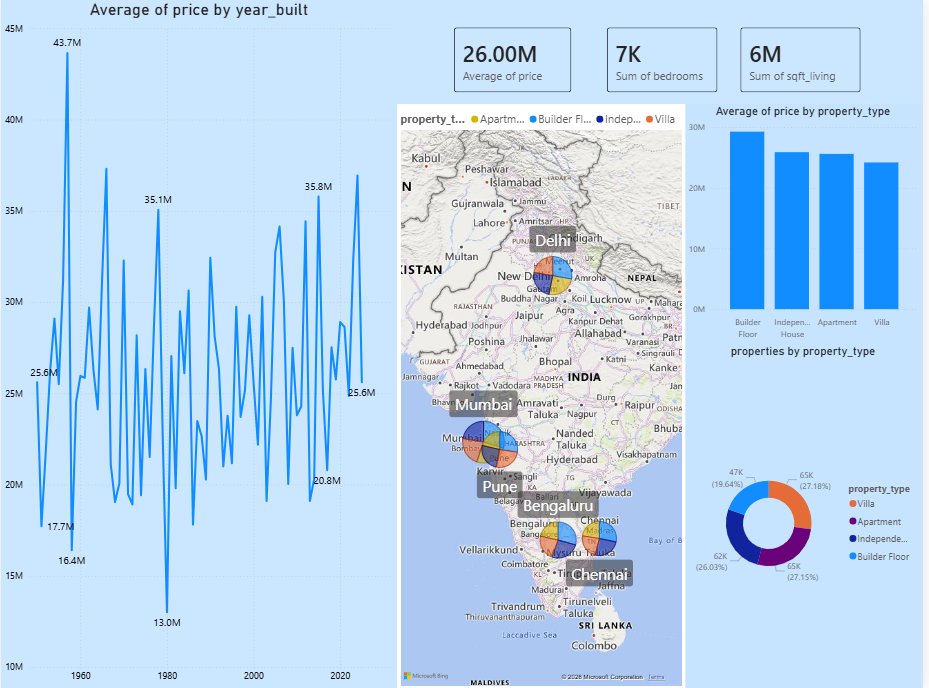

The page's visual inventory and layout, read from the dashboard file:
{"tool":"powerbi","page":{"name":"Page 2","canvas":[1335,1000],"ordinal":1},"visuals":[{"type":"lineChart","fields":{"Category":["fact_house_prices.year_built"],"Y":["Avg(fact_house_prices.price)"]},"box":[0,0,574,1000],"z":0},{"type":"map","fields":{"Category":["city_dim.city"],"Size":["Avg(fact_house_prices.price)"],"Series":["property_type_dim.property_type"]},"box":[574,152,418,848],"z":1000},{"type":"donutChart","title":" properties by property_type","fields":{"Category":["property_type_dim.property_type"],"Y":["Sum(fact_house_prices.property_type_dim.property_type_id.1)"]},"box":[992,500,342,500],"z":2000},{"type":"columnChart","fields":{"Y":["Avg(fact_house_prices.price)"],"Category":["property_type_dim.property_type"]},"box":[992,152,342,348],"z":3000},{"type":"cardVisual","fields":{"Data":["Avg(fact_house_prices.price)"]},"box":[640,24,204,128],"z":4000},{"type":"cardVisual","fields":{"Data":["Sum(fact_house_prices.bedrooms)"]},"box":[860,24,194,128],"z":5000},{"type":"cardVisual","fields":{"Data":["Sum(fact_house_prices.sqft_living)"]},"box":[1054,24,208,128],"z":6000}]}

Visuals, with their boxes in screenshot pixels (x1, y1, x2, y2), scaled from the page's 1335x1000 canvas onto the 929x688 screenshot:
lineChart - fact_house_prices.year_built x Avg(fact_house_prices.price): [0,0,399,687]
map - city_dim.city x Avg(fact_house_prices.price): [399,105,690,687]
" properties by property_type" donutChart: [690,344,928,687]
columnChart - Avg(fact_house_prices.price) x property_type_dim.property_type: [690,105,928,344]
cardVisual - Avg(fact_house_prices.price): [445,17,587,105]
cardVisual - Sum(fact_house_prices.bedrooms): [598,17,733,105]
cardVisual - Sum(fact_house_prices.sqft_living): [733,17,878,105]
